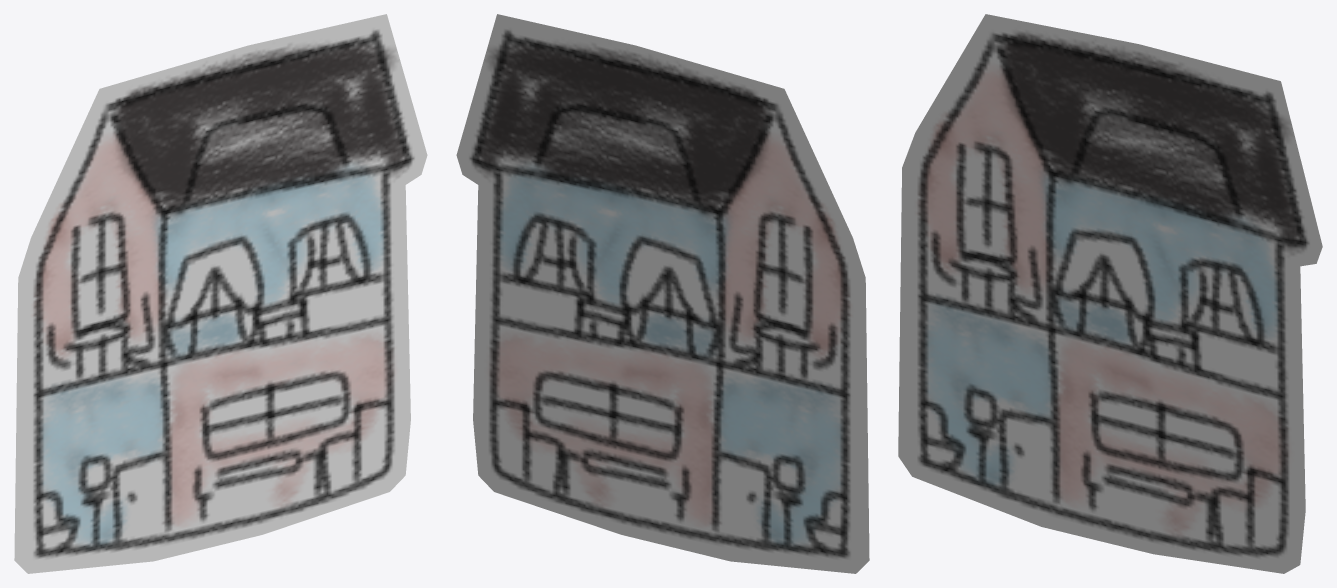
Rendered from Dockhus.fbx.
3 views of the same model, side by side, from view 1: azimuth 30°, elevation 25°; view 2: azimuth 150°, elevation 25°; view 3: azimuth 330°, elevation 25° (orthographic). The views are drawn at different scales.
Parts seen in each view (by area): view 1: dockhus; view 2: dockhus; view 3: dockhus.
Boxes of the visible parts, bbox=[...] form: dockhus: bbox=[14, 14, 427, 573]; dockhus: bbox=[456, 14, 869, 573]; dockhus: bbox=[898, 14, 1322, 573].
Size of the model in its own units: 56.68 by 64.63 by 1.05e-05.
1 material, 1 textured.
